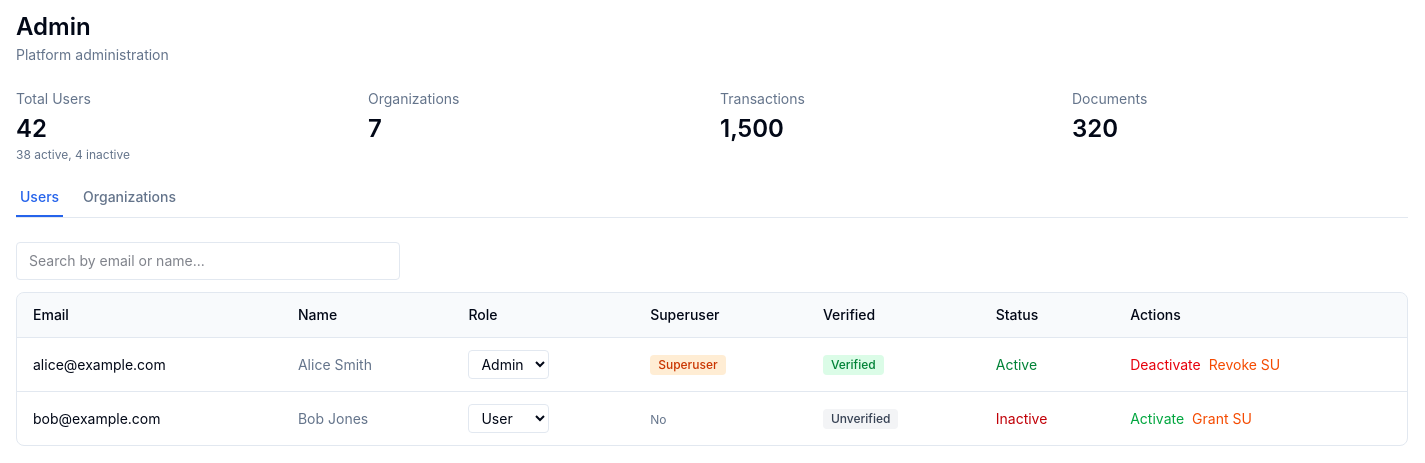
Test: Admin › switches to Organizations tab and shows org data
Click the tab "Organizations" at x=130, y=202, box [79,187,180,217]
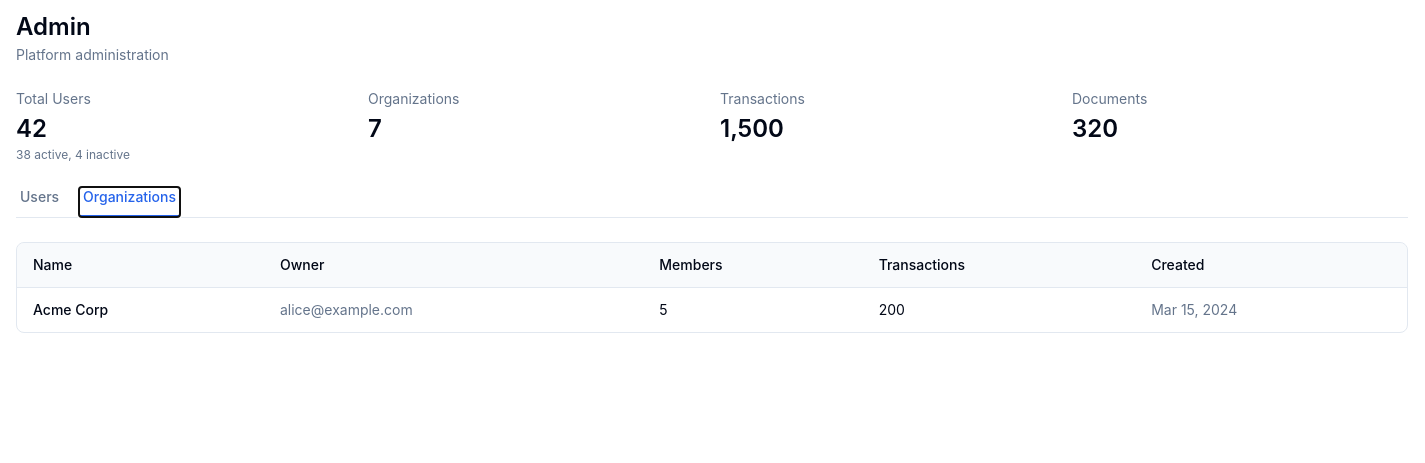
Now the text "Acme Corp" is shown, box [17,288,264,332]
